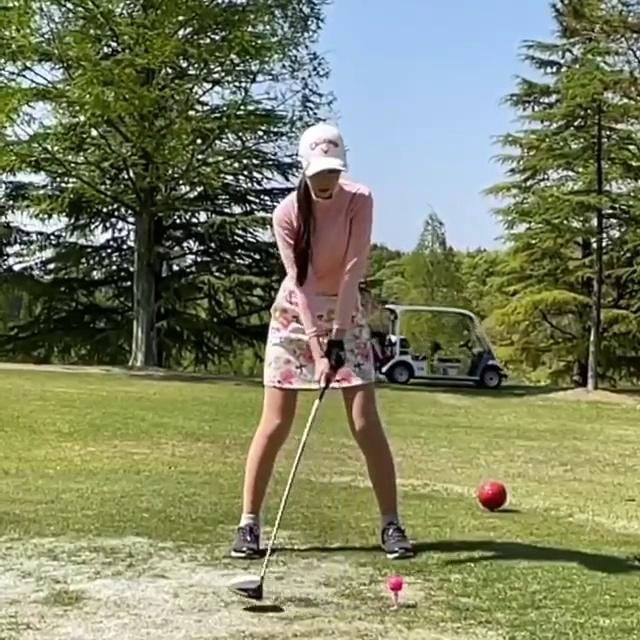golf ball: (392, 573, 404, 597)
golf club-handle: (226, 365, 332, 597)
golf club-head: (228, 573, 271, 602)
